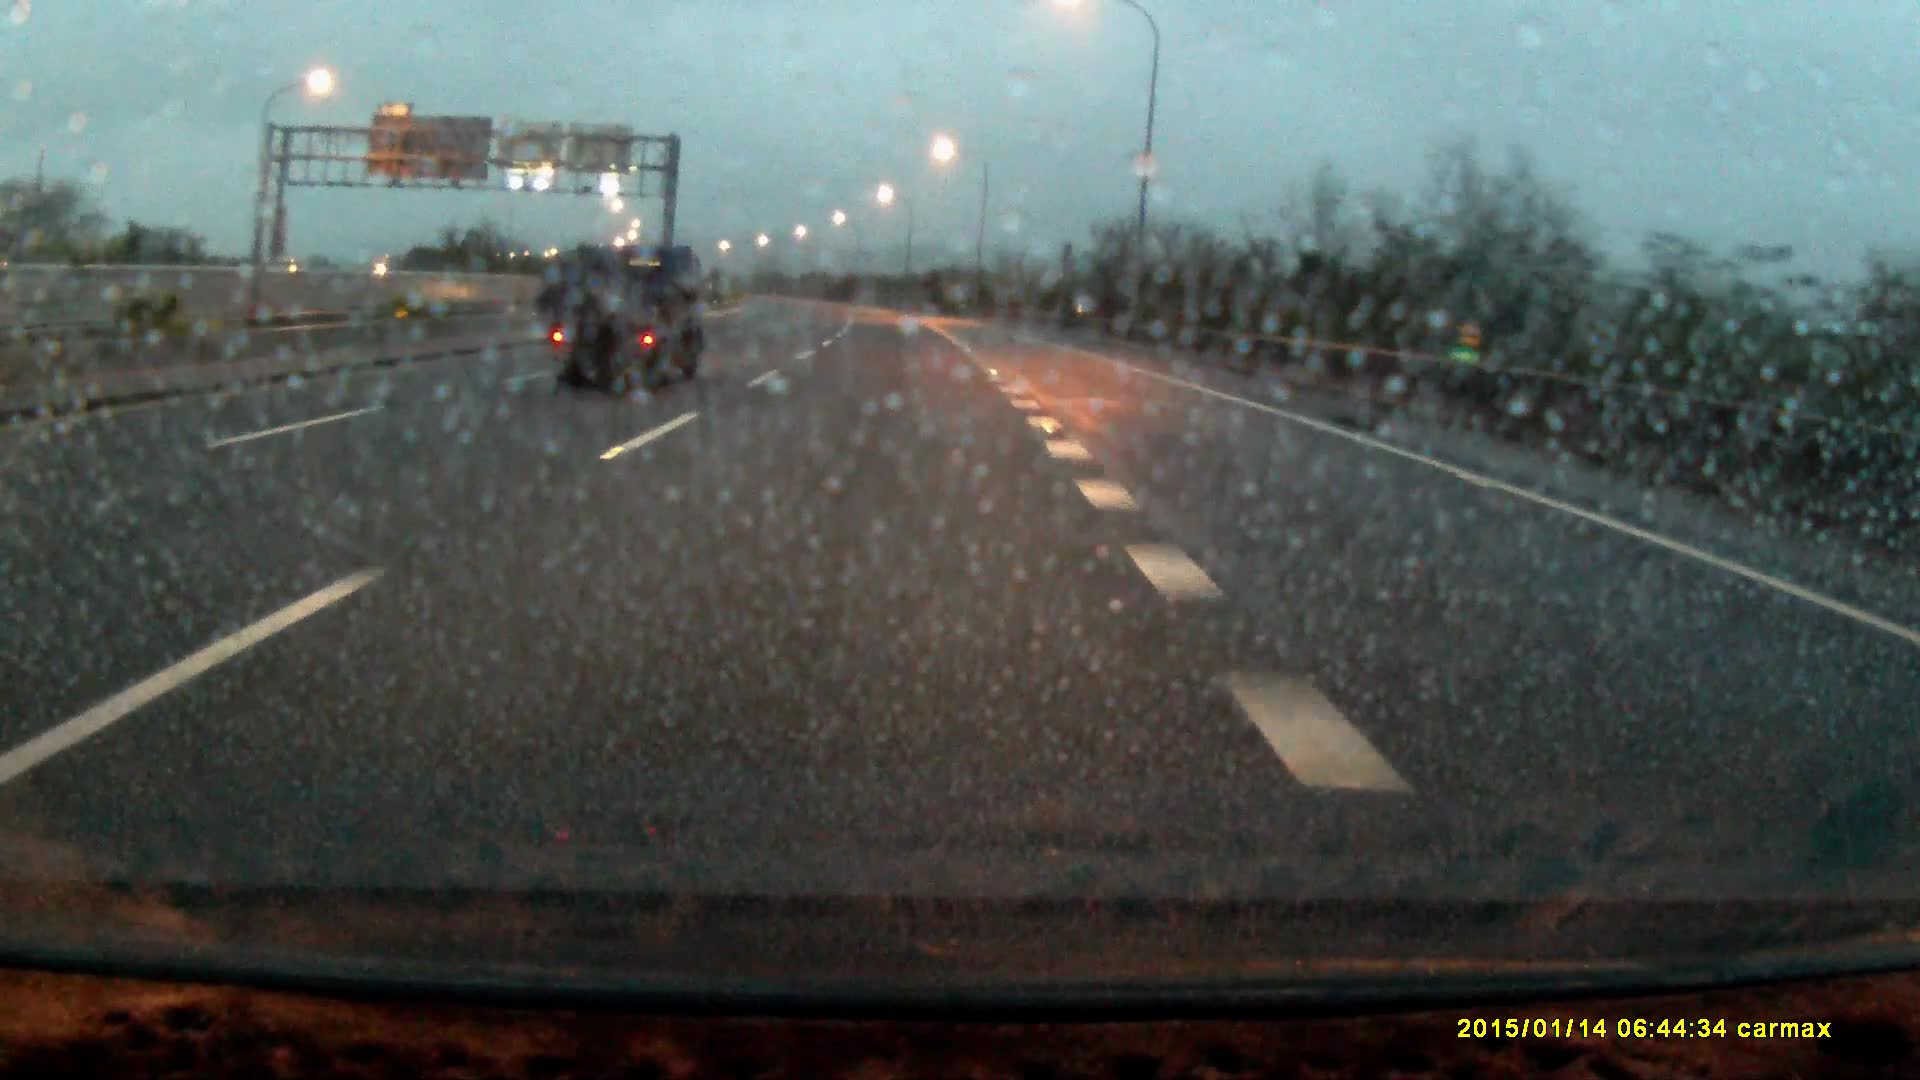vehicle: (545, 252, 712, 396)
